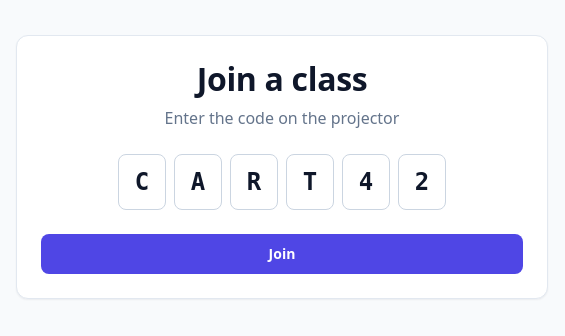
Test: JoinView › T-SESS-04: someone not in the course sees why, under the boxes
Click the button "Join".
click(282, 254)  # box [41,234,523,274]
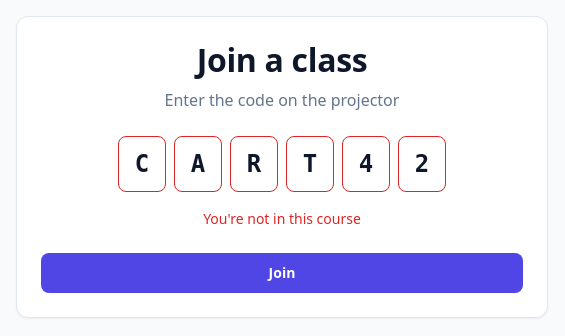
Result: the text with class "ca-field-error" reads "You're not in this course" at [203,209,361,228]
